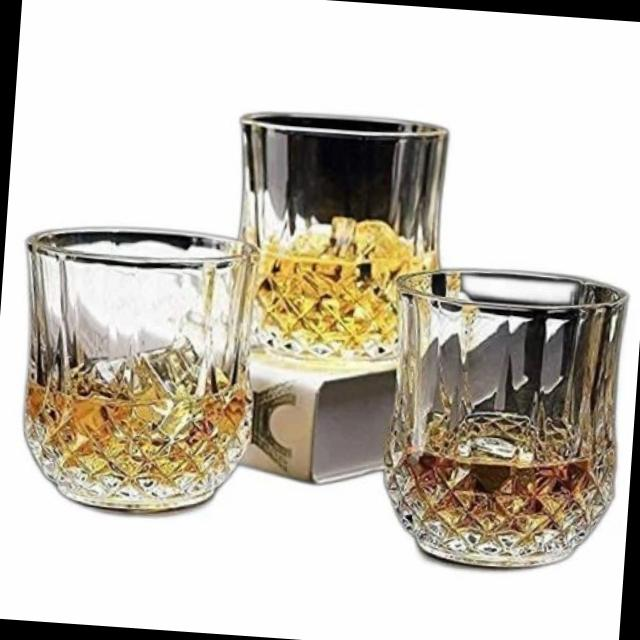glass: (376, 254, 632, 588), (0, 220, 259, 546), (212, 85, 458, 396)
